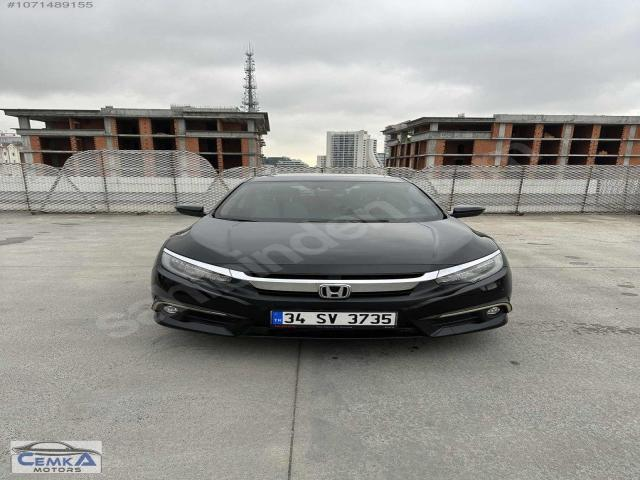plaka: (270, 312, 397, 326)
